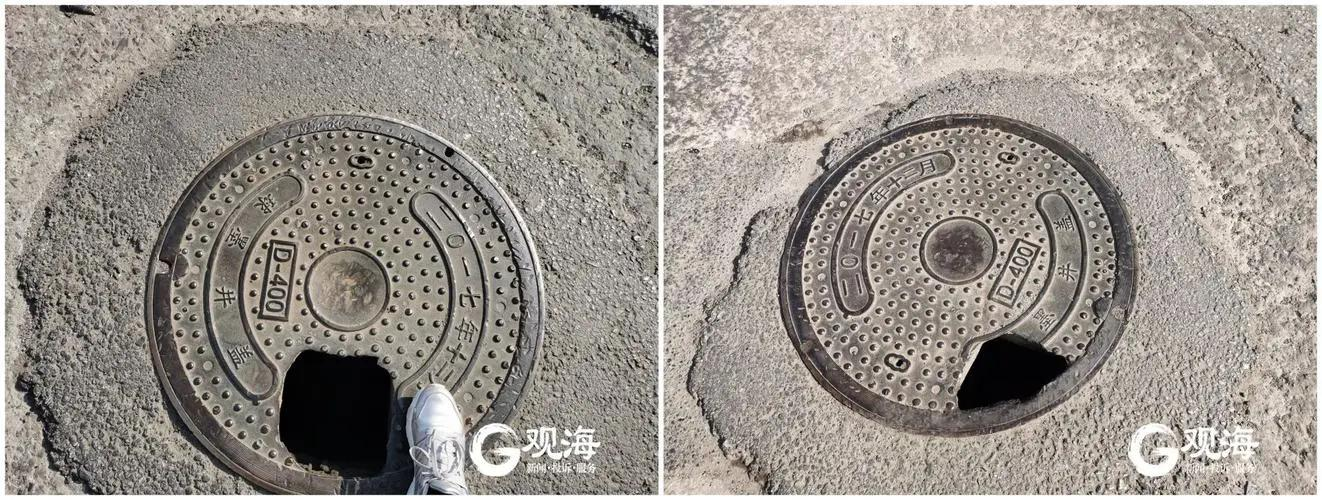wellcover: (155, 110, 549, 495), (765, 103, 1126, 470)
